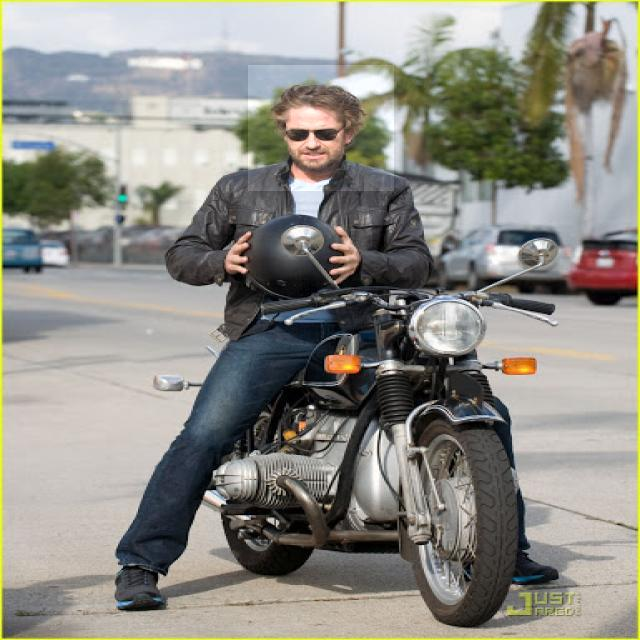No_Helmet: (248, 65, 394, 191)
